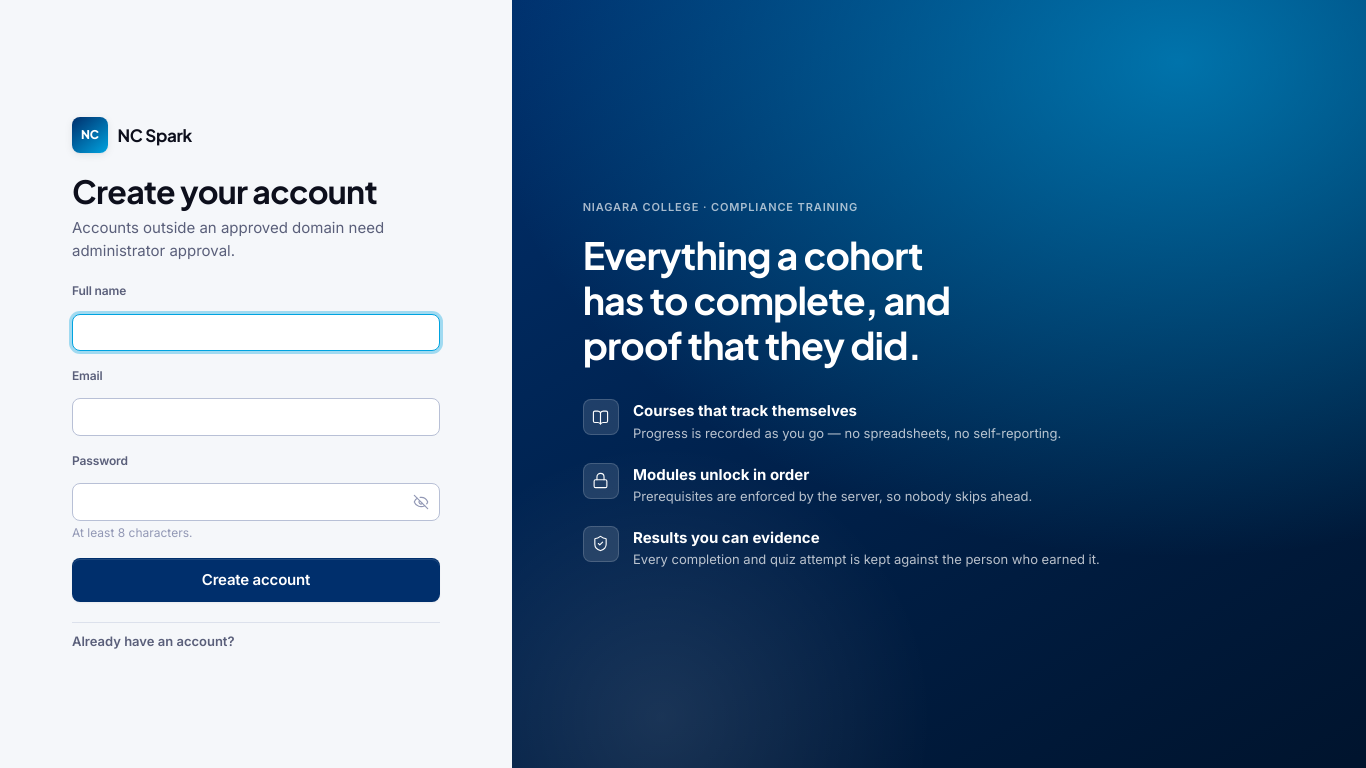
Test case: when signup is refused › shows the reason and keeps the form
The width and height of the screenshot is (1366, 768).
Type "Sam Reed" into the field labelled "Full name" at (256, 332), box [72,314,440,351]
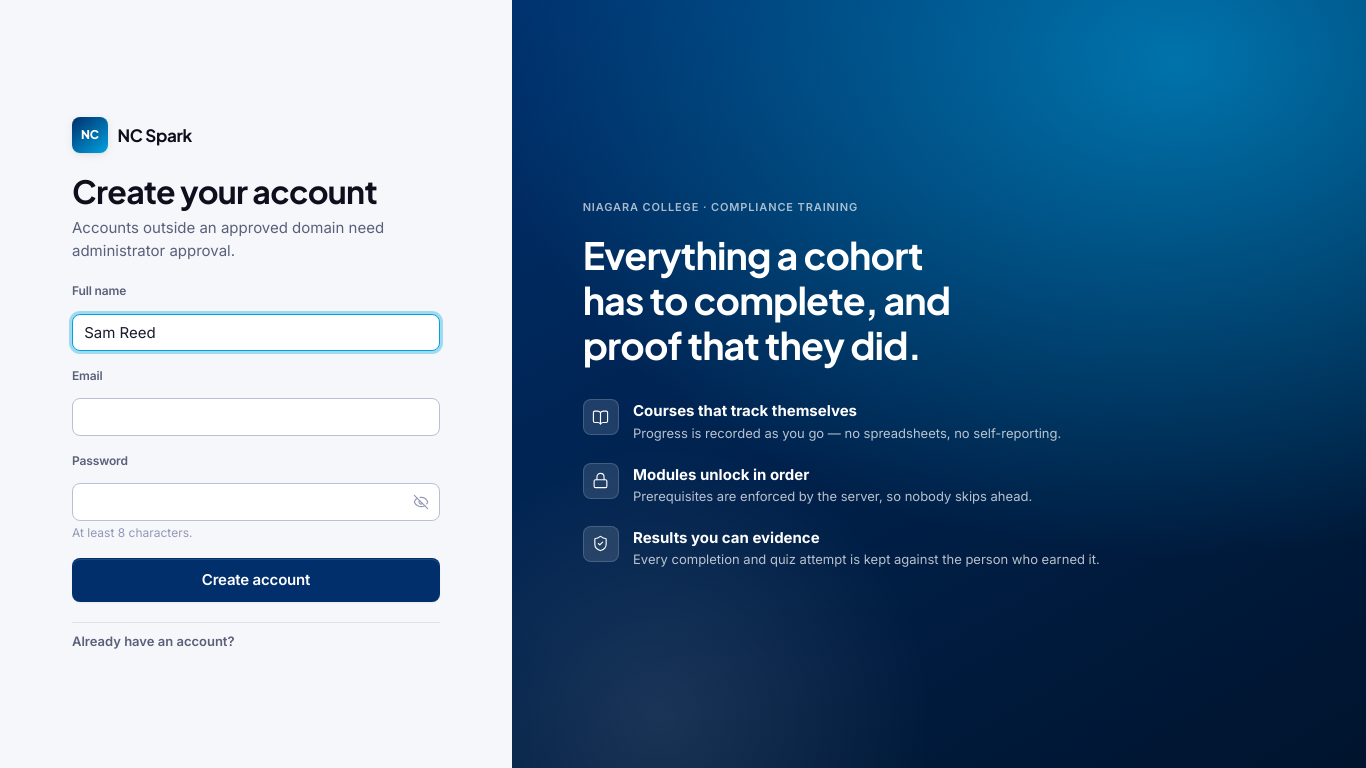
Type "sam@example.com" into the field labelled "Email" at (256, 417), box [72,398,440,436]
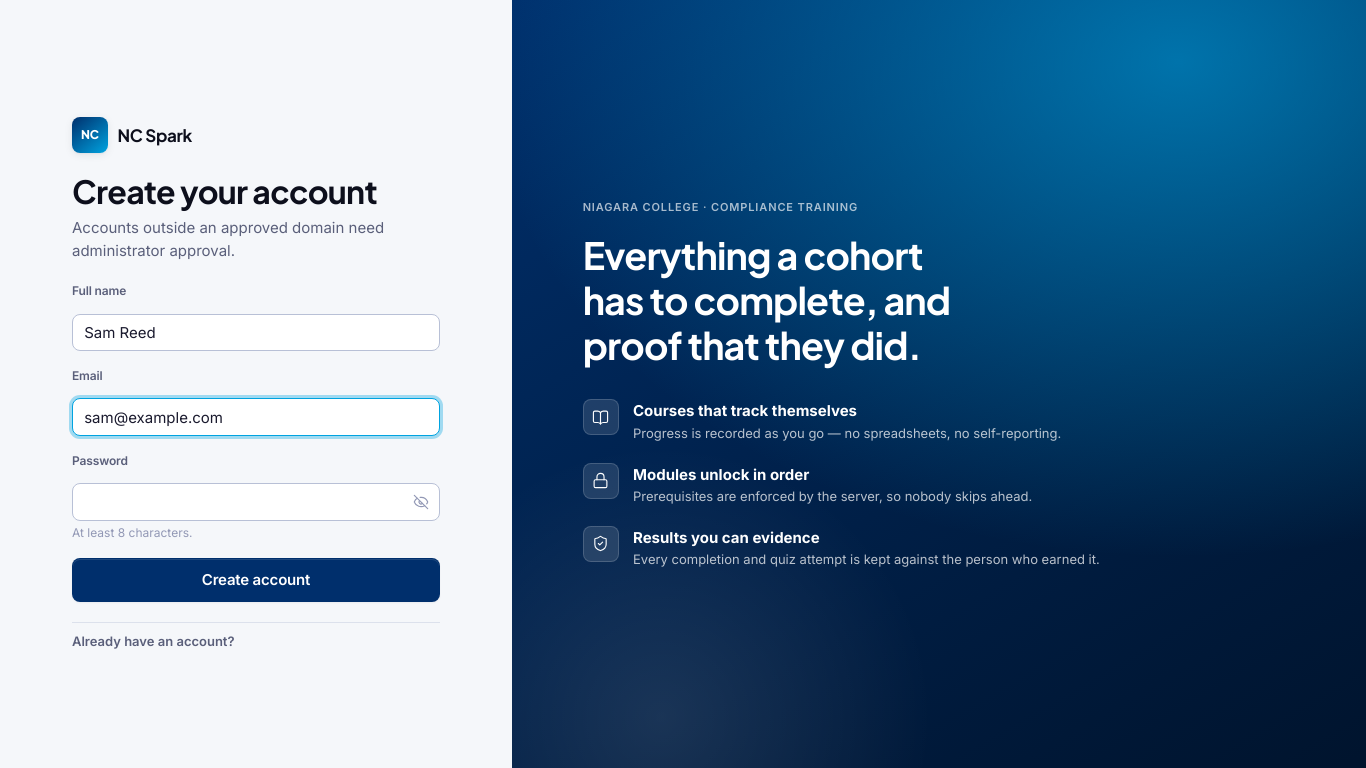
Type "longenough1" into the password field labelled "Password" at (256, 502), box [72,483,440,521]
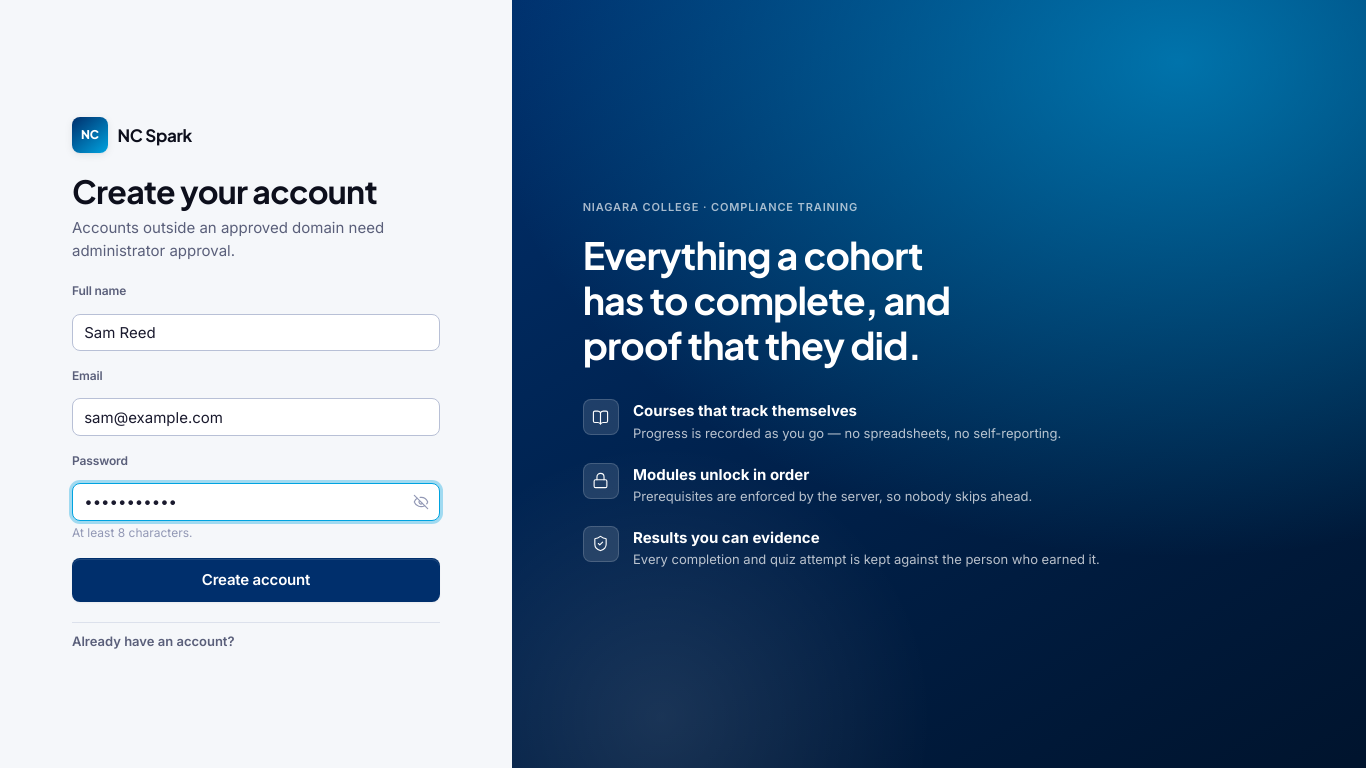
Click the button "Create account" at (256, 580), box [72,558,440,602]
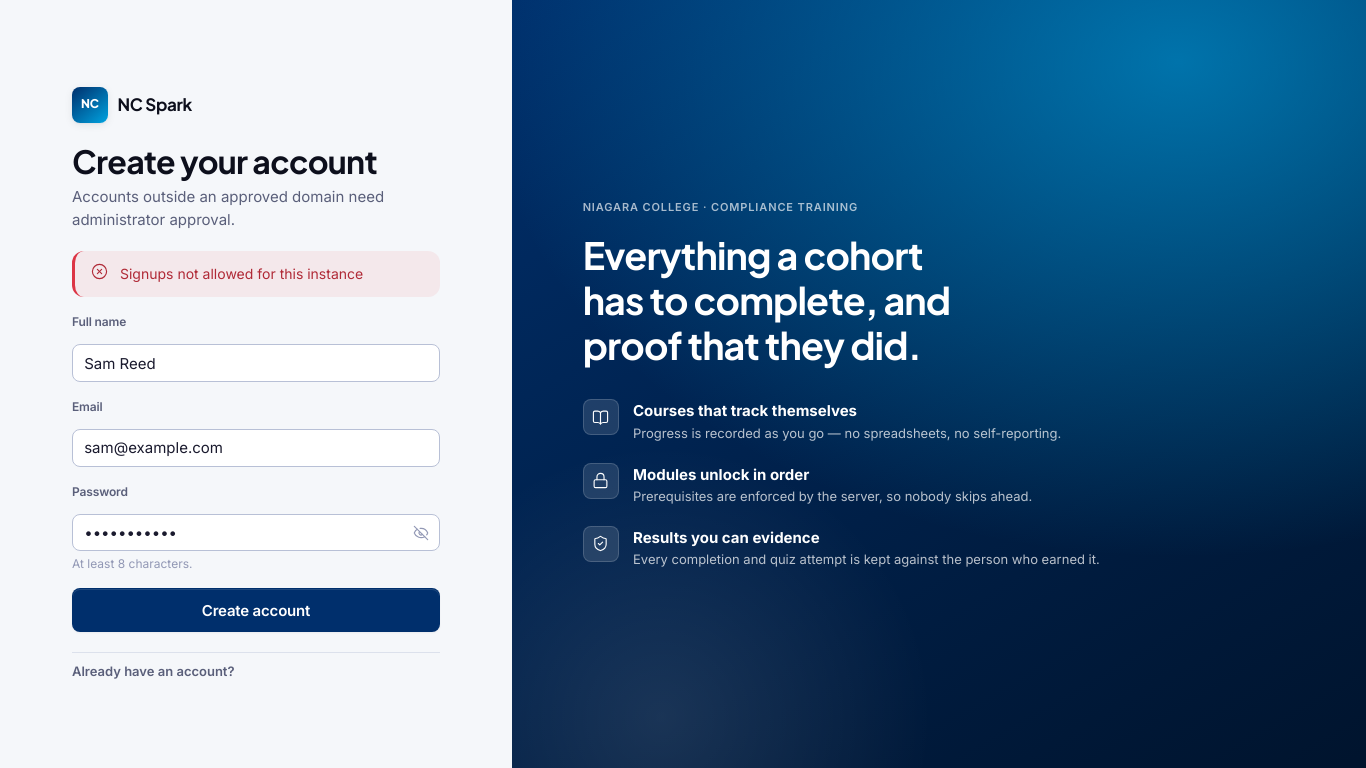
Expected: the message reads "Signups not allowed for this instance", [120,265,363,282]
